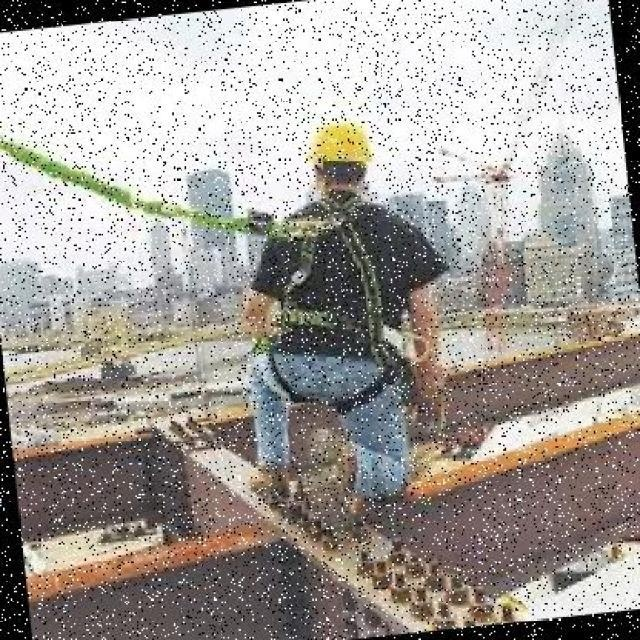Arnes_seguridad: (246, 192, 422, 425)
